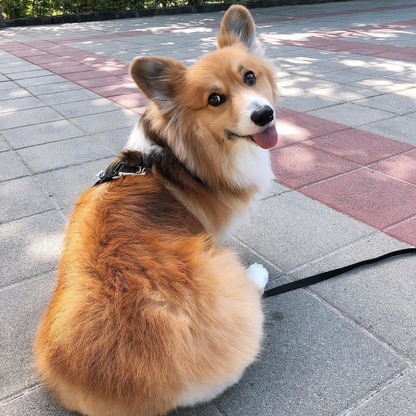Corgi: (71, 12, 303, 409)
